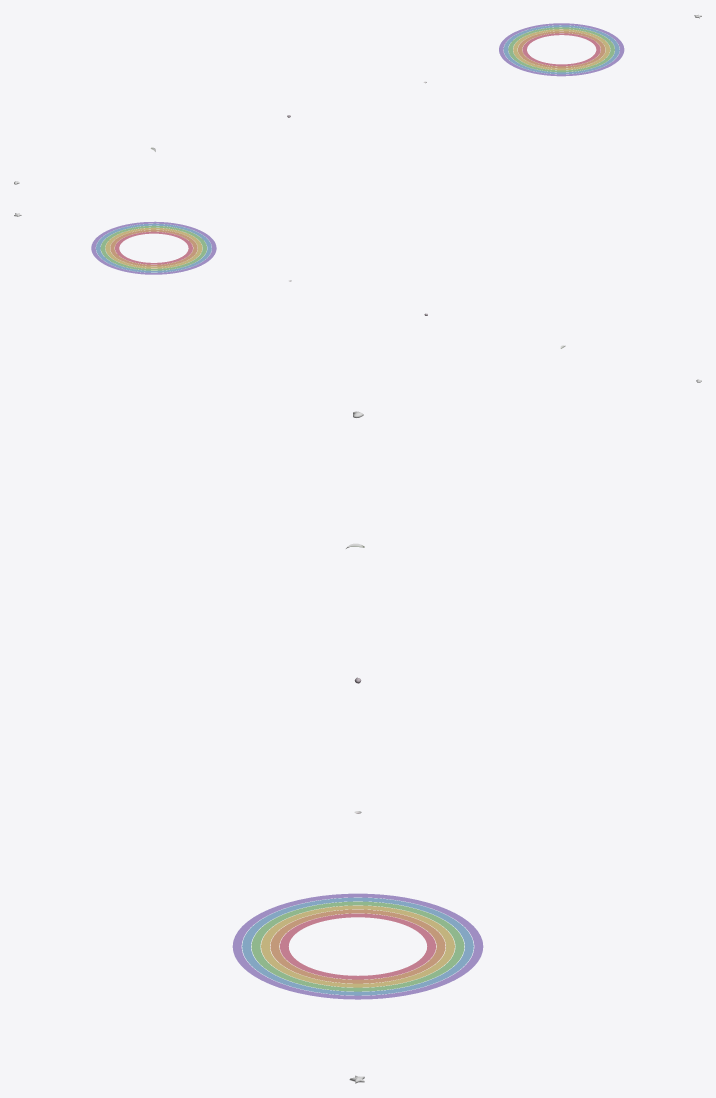
Rendered from prp_ridefx_parts.glb.
The picture shows the model from 3 angles, top to bottom: view 1: azimuth 30°, elevation 25°; view 2: azimuth 150°, elevation 25°; view 3: azimuth 270°, elevation 25°; orthographic projection. The views are drawn at different scales.
Parts seen in each view (by area): view 1: INST_prp_ridefx_parts_rainbow; view 2: INST_prp_ridefx_parts_rainbow; view 3: INST_prp_ridefx_parts_rainbow.
Boxes of the visible parts, x1,y1,x2,y2 form: INST_prp_ridefx_parts_rainbow: (499,23,624,76); INST_prp_ridefx_parts_rainbow: (91,221,216,274); INST_prp_ridefx_parts_rainbow: (232,893,483,999).
Bounding box in the file's own units: 12.61 × 0.044 × 1.99.
